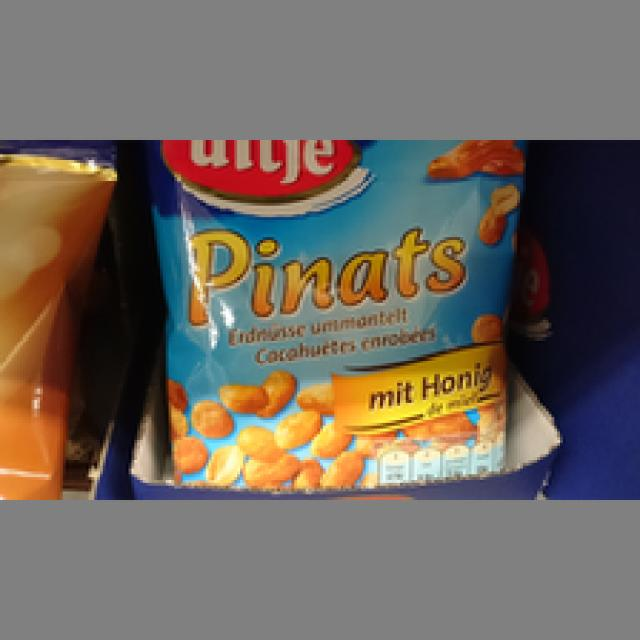groceries: (143, 137, 526, 489)
